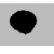correct: (5, 6, 43, 36)
